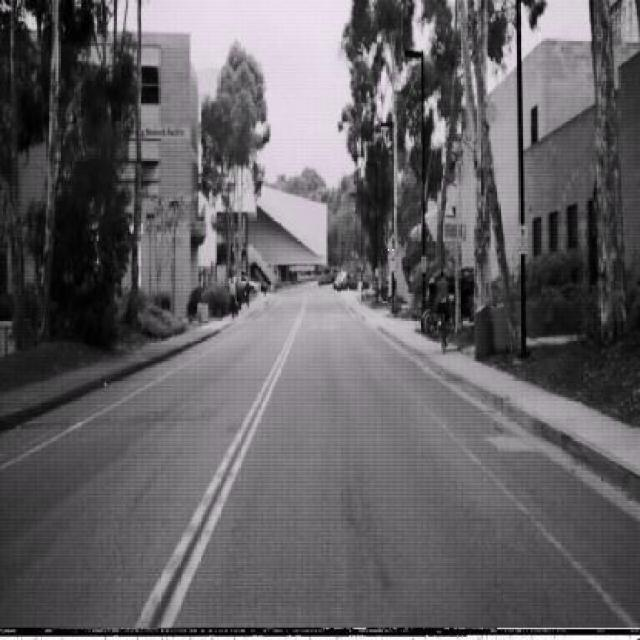pedestrianCrossing: (386, 232, 400, 259)
